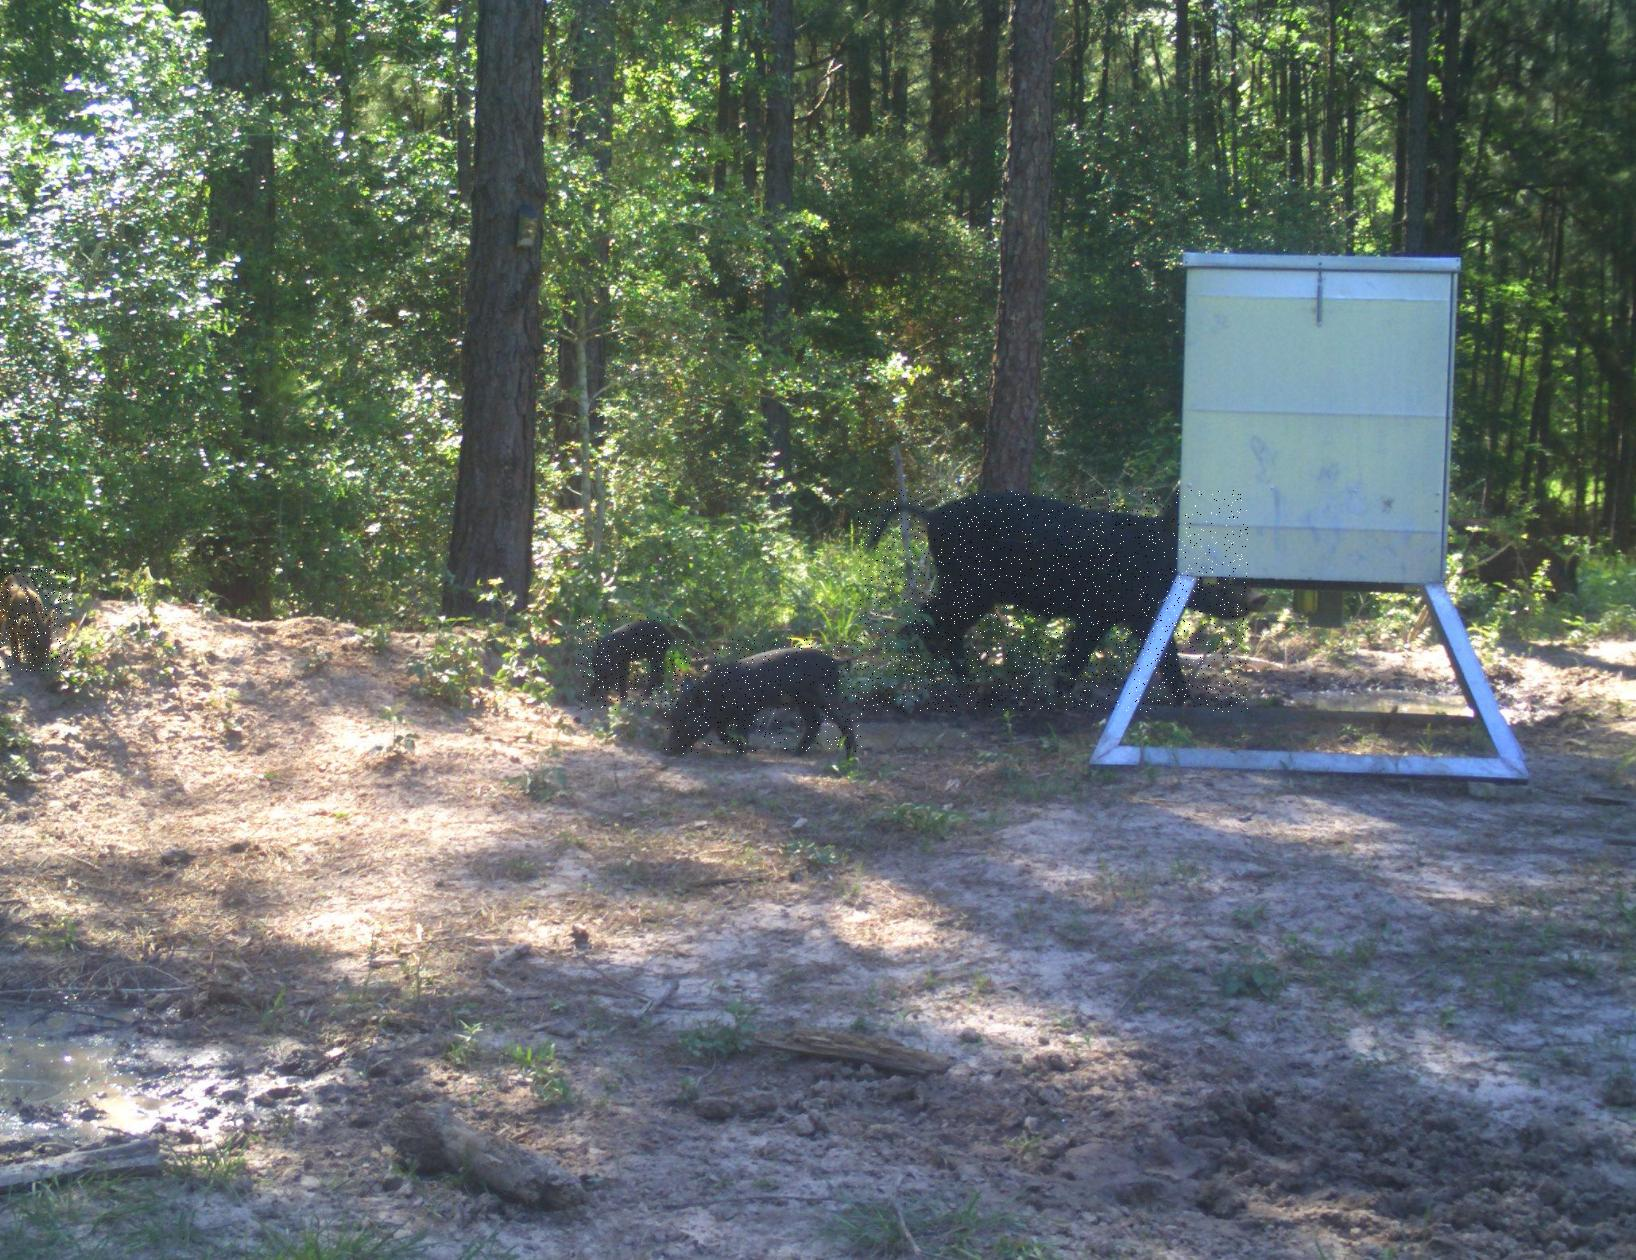Hog: (858, 490, 1248, 712), (664, 638, 862, 754), (576, 617, 682, 709), (0, 568, 71, 672)
